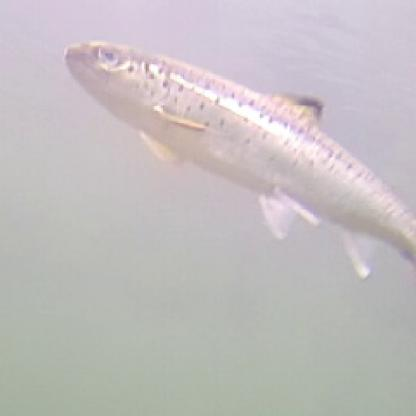salmon: (55, 33, 414, 281)
